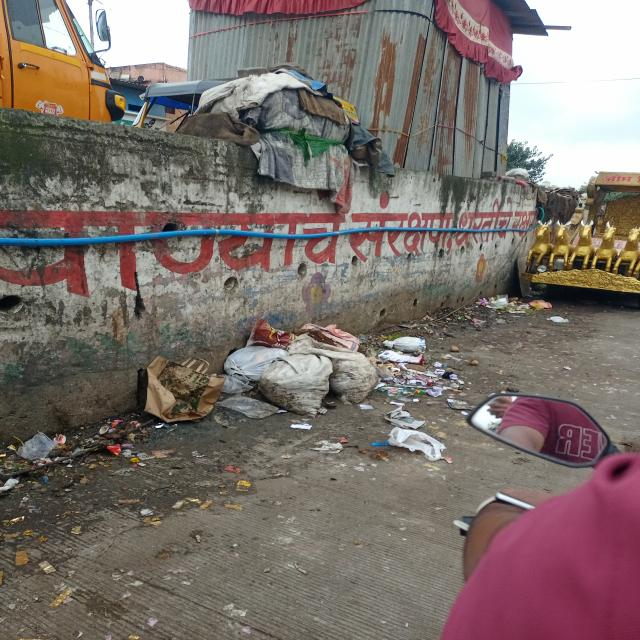garbage: (147, 318, 445, 430), (479, 291, 551, 315)
